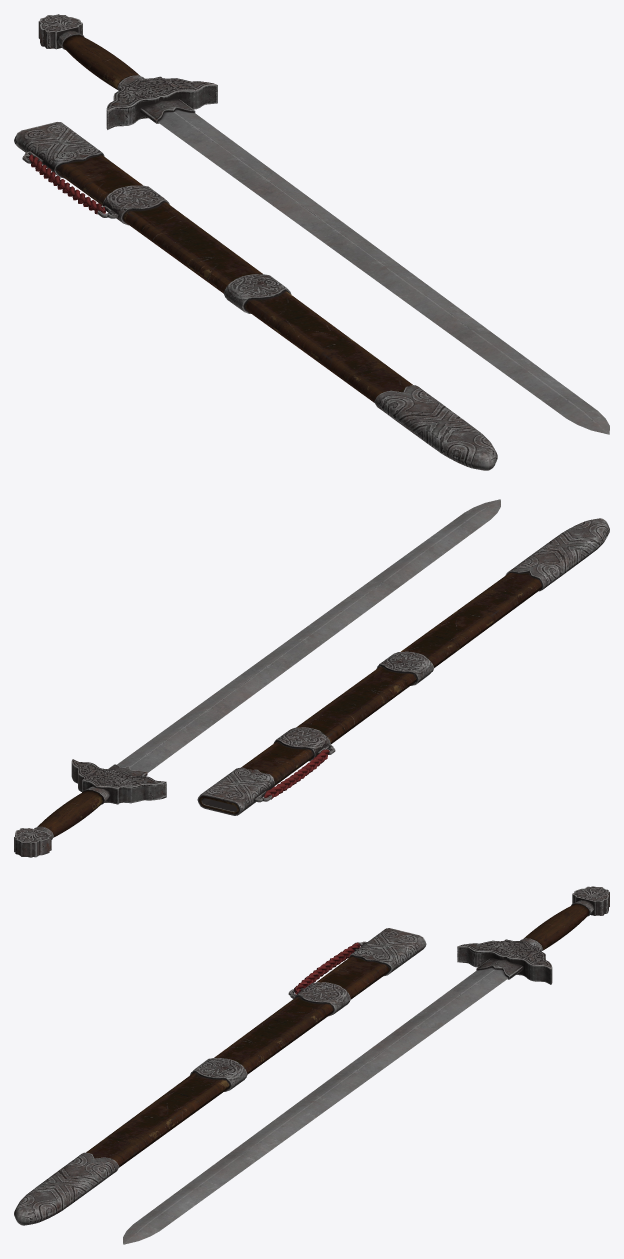
The model's file is procedural_sword_test_15.glb.
The picture shows the model from 3 angles, top to bottom: view 1: azimuth 30°, elevation 25°; view 2: azimuth 150°, elevation 25°; view 3: azimuth 330°, elevation 25°; orthographic projection. The views are drawn at different scales.
Parts seen in each view (by area): view 1: sheath_low, blade_low, guard_low, handle_low, shell_low; view 2: sheath_low, blade_low, handle_low, guard_low; view 3: sheath_low, blade_low, guard_low, handle_low, shell_low.
Boxes of the visible parts, left/top/right/bottom form: sheath_low: left=14, top=122, right=497, bottom=470; blade_low: left=157, top=109, right=609, bottom=434; guard_low: left=106, top=76, right=217, bottom=129; handle_low: left=38, top=14, right=144, bottom=90; shell_low: left=140, top=98, right=195, bottom=123; sheath_low: left=197, top=518, right=609, bottom=815; blade_low: left=117, top=499, right=500, bottom=772; handle_low: left=14, top=786, right=110, bottom=857; guard_low: left=71, top=759, right=166, bottom=804; sheath_low: left=14, top=928, right=426, bottom=1225; blade_low: left=123, top=967, right=508, bottom=1244; guard_low: left=457, top=939, right=552, bottom=984; handle_low: left=520, top=886, right=609, bottom=951; shell_low: left=476, top=958, right=523, bottom=979.
Size of the model in its own units: 0.3566 by 0.0314 by 1.63.
Materials: 1 (1 with a texture image).
